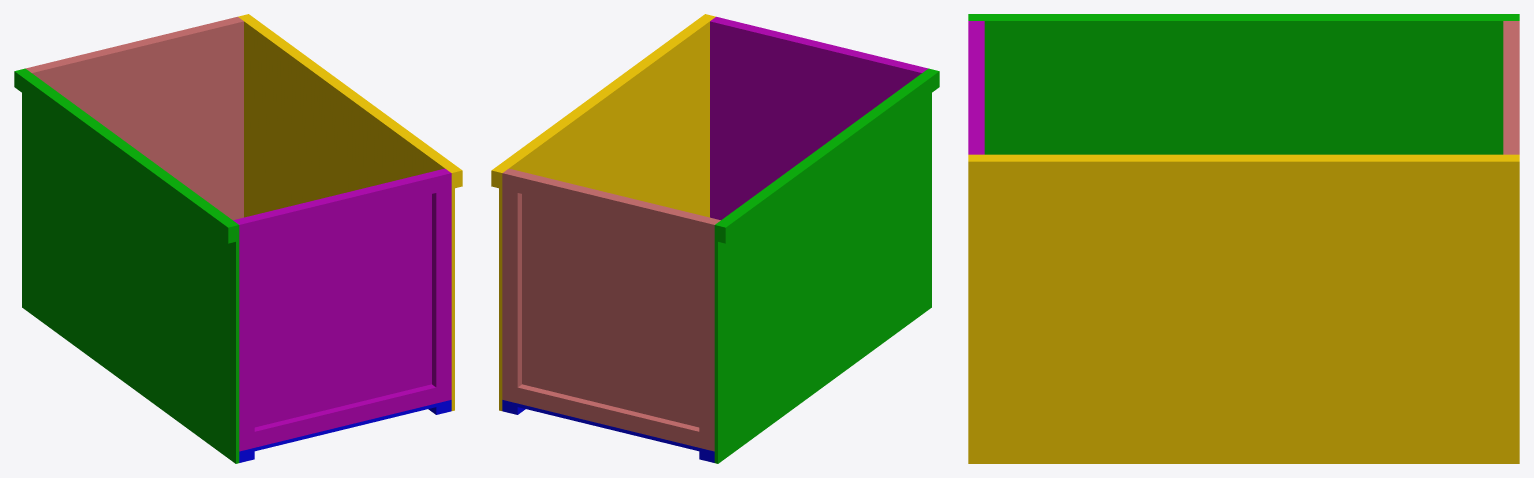
File: result.glb
The picture shows the model from 3 angles, left to right: view 1: azimuth 30°, elevation 25°; view 2: azimuth 150°, elevation 25°; view 3: azimuth 270°, elevation 25°; orthographic projection. The views are drawn at different scales.
Parts seen in each view (by area): view 1: 43203b23-a1d2-4078-b6b7-7f6632caa8a0__Box_6, a7fecf97-0bec-43bb-a7c6-5f62a674d140__Box_3, e0d0a030-cf70-4de5-a8a2-0f1888e9649a__undefined, 058010c7-54ce-4971-bd27-debf7265218a__undefined, 98078e05-b338-4027-ae43-a40fc35090a1__Box_7, cabb58ac-5d0d-4ae6-8baf-eb44964bd56d__undefined, fe96fba4-dbb7-4e44-8d9d-83e5882baf27__undefined, 82840179-9779-45a0-ac4f-533888cff39c__Box_5, 87822080-8295-44eb-98bf-b765a740b5fc__Box_4, f98bde27-016e-493f-b749-980b0b7d41d0__undefined, 5d8c7d77-c222-4126-959b-60bfe1a73b87__undefined, 420df389-8dab-4ba8-a39a-cc249665cc1d__Box; view 2: 43203b23-a1d2-4078-b6b7-7f6632caa8a0__Box_6, e0d0a030-cf70-4de5-a8a2-0f1888e9649a__undefined, a7fecf97-0bec-43bb-a7c6-5f62a674d140__Box_3, 058010c7-54ce-4971-bd27-debf7265218a__undefined, 98078e05-b338-4027-ae43-a40fc35090a1__Box_7, 60eb0dc5-0951-4ca9-ba3e-fe24ce51111c__undefined, 5d8c7d77-c222-4126-959b-60bfe1a73b87__undefined, 2a5b50db-5507-46e1-b507-bb11a75a94b7__undefined, b7a16981-6646-4eb1-9649-6d932b2e8b19__undefined, f98bde27-016e-493f-b749-980b0b7d41d0__undefined, fe96fba4-dbb7-4e44-8d9d-83e5882baf27__undefined, 420df389-8dab-4ba8-a39a-cc249665cc1d__Box; view 3: 058010c7-54ce-4971-bd27-debf7265218a__undefined, 43203b23-a1d2-4078-b6b7-7f6632caa8a0__Box_6, f98bde27-016e-493f-b749-980b0b7d41d0__undefined, 98078e05-b338-4027-ae43-a40fc35090a1__Box_7, fe96fba4-dbb7-4e44-8d9d-83e5882baf27__undefined, 5d8c7d77-c222-4126-959b-60bfe1a73b87__undefined, a7fecf97-0bec-43bb-a7c6-5f62a674d140__Box_3, e0d0a030-cf70-4de5-a8a2-0f1888e9649a__undefined.
Part boxes in pixels (x1,y1,x2,y2): 43203b23-a1d2-4078-b6b7-7f6632caa8a0__Box_6: [22, 68, 239, 463]; a7fecf97-0bec-43bb-a7c6-5f62a674d140__Box_3: [233, 168, 446, 427]; e0d0a030-cf70-4de5-a8a2-0f1888e9649a__undefined: [30, 20, 243, 219]; 058010c7-54ce-4971-bd27-debf7265218a__undefined: [238, 16, 454, 410]; 98078e05-b338-4027-ae43-a40fc35090a1__Box_7: [14, 69, 235, 243]; cabb58ac-5d0d-4ae6-8baf-eb44964bd56d__undefined: [432, 170, 451, 403]; fe96fba4-dbb7-4e44-8d9d-83e5882baf27__undefined: [250, 173, 436, 236]; 82840179-9779-45a0-ac4f-533888cff39c__Box_5: [254, 384, 436, 447]; 87822080-8295-44eb-98bf-b765a740b5fc__Box_4: [235, 218, 254, 451]; f98bde27-016e-493f-b749-980b0b7d41d0__undefined: [241, 14, 462, 188]; 5d8c7d77-c222-4126-959b-60bfe1a73b87__undefined: [41, 20, 226, 67]; 420df389-8dab-4ba8-a39a-cc249665cc1d__Box: [239, 400, 451, 454]; 43203b23-a1d2-4078-b6b7-7f6632caa8a0__Box_6: [714, 68, 931, 463]; e0d0a030-cf70-4de5-a8a2-0f1888e9649a__undefined: [507, 168, 720, 427]; a7fecf97-0bec-43bb-a7c6-5f62a674d140__Box_3: [710, 20, 923, 219]; 058010c7-54ce-4971-bd27-debf7265218a__undefined: [499, 16, 715, 410]; 98078e05-b338-4027-ae43-a40fc35090a1__Box_7: [718, 69, 939, 243]; 60eb0dc5-0951-4ca9-ba3e-fe24ce51111c__undefined: [502, 170, 521, 403]; 5d8c7d77-c222-4126-959b-60bfe1a73b87__undefined: [517, 173, 703, 236]; 2a5b50db-5507-46e1-b507-bb11a75a94b7__undefined: [517, 384, 699, 447]; b7a16981-6646-4eb1-9649-6d932b2e8b19__undefined: [699, 218, 718, 451]; f98bde27-016e-493f-b749-980b0b7d41d0__undefined: [491, 14, 712, 188]; fe96fba4-dbb7-4e44-8d9d-83e5882baf27__undefined: [727, 20, 912, 67]; 420df389-8dab-4ba8-a39a-cc249665cc1d__Box: [502, 400, 714, 454]; 058010c7-54ce-4971-bd27-debf7265218a__undefined: [968, 154, 1519, 463]; 43203b23-a1d2-4078-b6b7-7f6632caa8a0__Box_6: [968, 18, 1519, 154]; f98bde27-016e-493f-b749-980b0b7d41d0__undefined: [968, 156, 1519, 182]; 98078e05-b338-4027-ae43-a40fc35090a1__Box_7: [968, 14, 1519, 18]; fe96fba4-dbb7-4e44-8d9d-83e5882baf27__undefined: [968, 30, 979, 144]; 5d8c7d77-c222-4126-959b-60bfe1a73b87__undefined: [1508, 30, 1519, 144]; a7fecf97-0bec-43bb-a7c6-5f62a674d140__Box_3: [979, 21, 984, 154]; e0d0a030-cf70-4de5-a8a2-0f1888e9649a__undefined: [1503, 21, 1508, 154].
Size of the model in its own units: 552 by 536 by 872.
